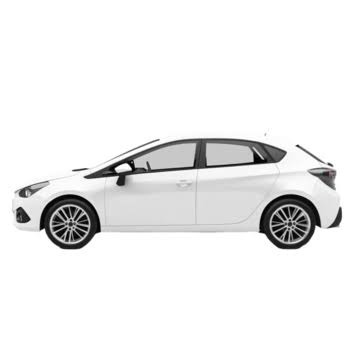car: (4, 137, 344, 260)
